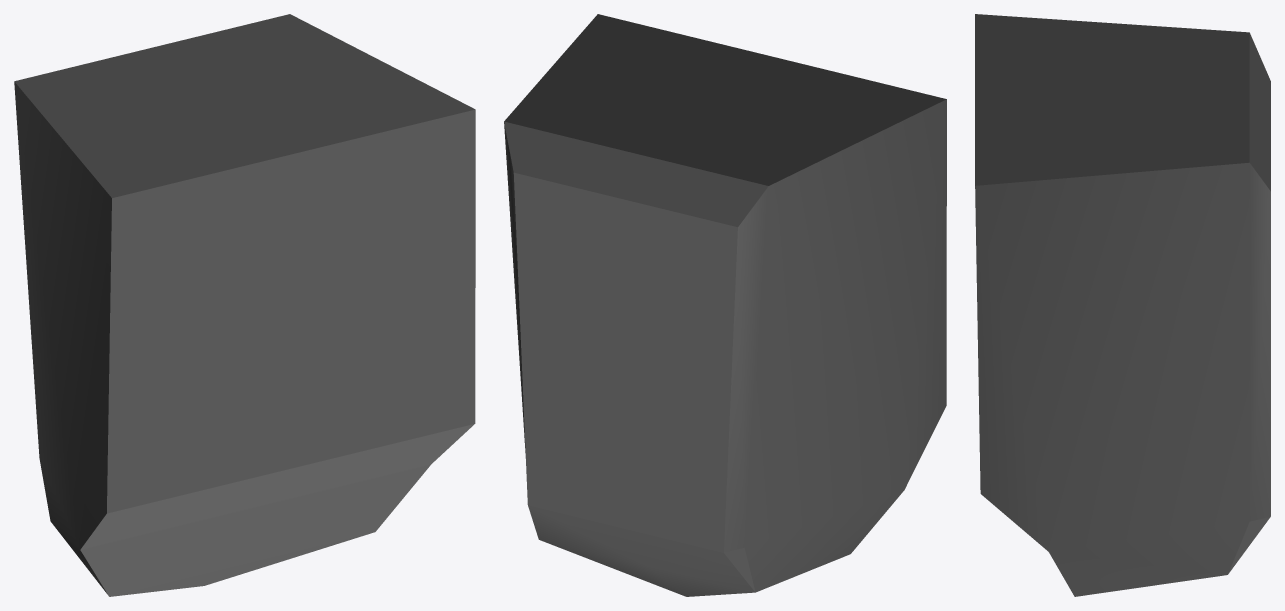
Rendered from ship_vt_03.glb.
3 views of the same model, side by side, from view 1: azimuth 30°, elevation 25°; view 2: azimuth 150°, elevation 25°; view 3: azimuth 270°, elevation 25° (orthographic). The views are drawn at different scales.
Visible parts, largest first — view 1: group_13; view 2: group_13; view 3: group_13.
Part boxes in pixels (bbox=[...]): group_13: bbox=[14, 14, 475, 596]; group_13: bbox=[504, 14, 946, 596]; group_13: bbox=[975, 14, 1270, 596].
Bounding box in the file's own units: 1886 × 2446 × 1354.
1 material, 1 textured.
